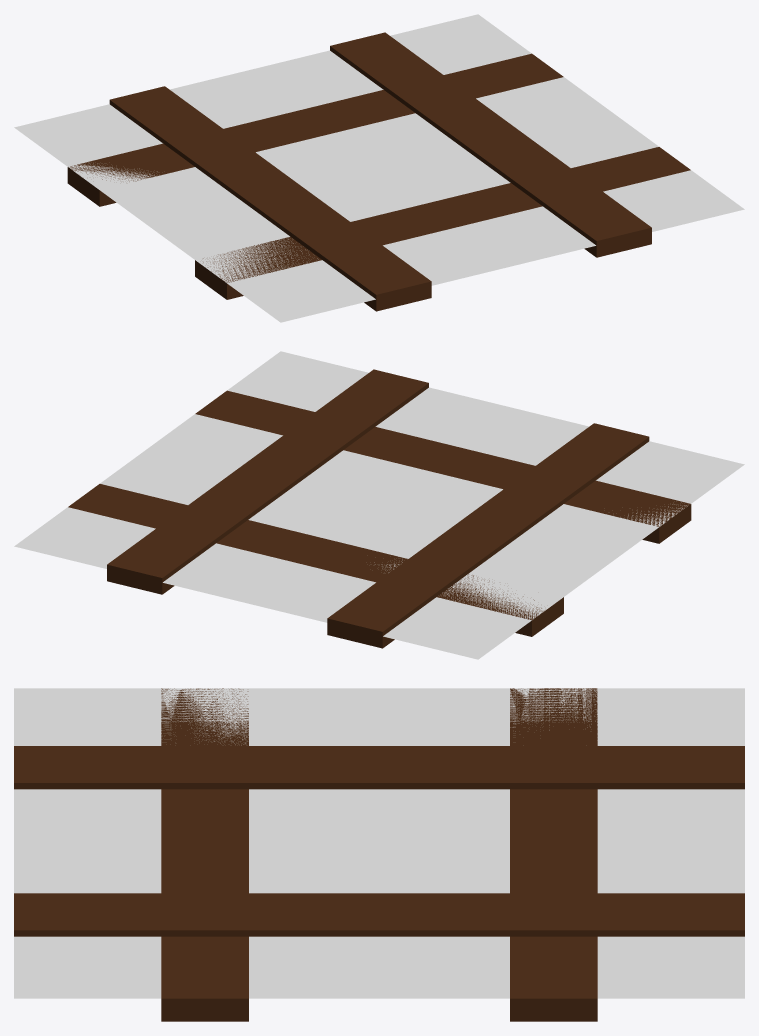
File: BossRoomCeilling.fbx
3 views of the same model, one above another, from view 1: azimuth 30°, elevation 25°; view 2: azimuth 150°, elevation 25°; view 3: azimuth 270°, elevation 25° (orthographic). The views are drawn at different scales.
Parts seen in each view (by area): view 1: Plane.004, Cube.016, Cube.017, Cube.013, Cube.014; view 2: Plane.004, Cube.016, Cube.017, Cube.013, Cube.014; view 3: Plane.004, Cube.016, Cube.017, Cube.014, Cube.013.
Boxes of the visible parts, x1,y1,x2,y2 form: Plane.004: (14, 14, 744, 322); Cube.016: (109, 86, 431, 311); Cube.017: (330, 32, 651, 257); Cube.013: (195, 147, 690, 299); Cube.014: (67, 53, 563, 206); Plane.004: (14, 351, 744, 659); Cube.016: (327, 423, 649, 648); Cube.017: (107, 369, 428, 594); Cube.013: (195, 390, 691, 543); Cube.014: (68, 484, 563, 636); Plane.004: (14, 688, 744, 998); Cube.016: (14, 746, 744, 789); Cube.017: (14, 893, 744, 936); Cube.014: (510, 688, 597, 1021); Cube.013: (161, 688, 248, 1021).
Bounding box in the file's own units: 844 × 36.8 × 840.
